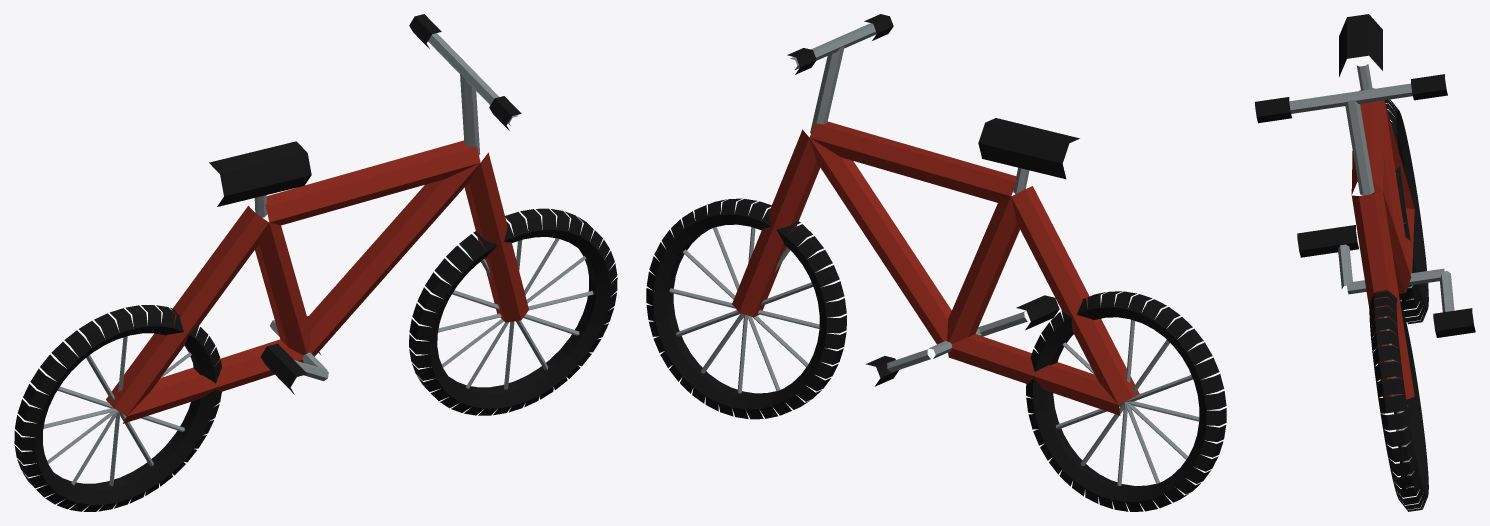
File: garden_bicycle.glb
3 renders of one model, left to right at view 1: azimuth 30°, elevation 25°; view 2: azimuth 150°, elevation 25°; view 3: azimuth 270°, elevation 25°, orthographic. The views are drawn at different scales.
Visible parts, largest first — view 1: garden_bicycle; view 2: garden_bicycle; view 3: garden_bicycle.
Boxes of the visible parts, <box> form: garden_bicycle: <box>14,14,617,511</box>; garden_bicycle: <box>646,14,1226,511</box>; garden_bicycle: <box>1255,14,1475,511</box>.
Bounding box in the file's own units: 1.36 × 0.8756 × 0.4474.
